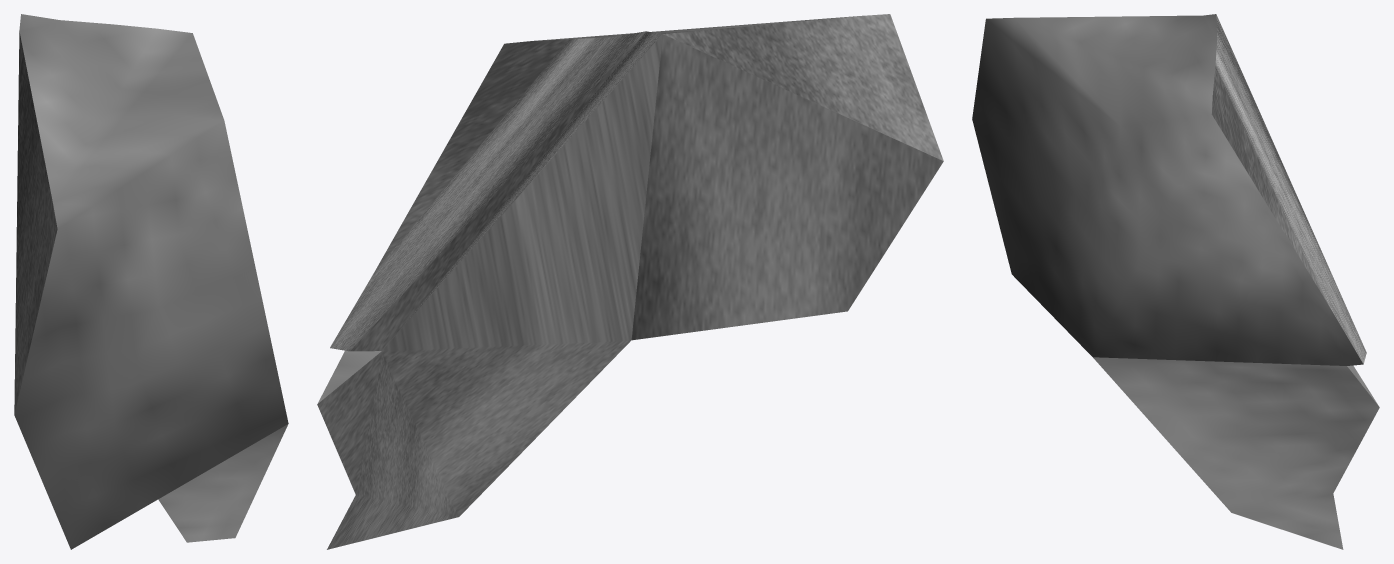
Rendered from body_cell_014.fbx.
3 renders of one model, left to right at view 1: azimuth 30°, elevation 25°; view 2: azimuth 150°, elevation 25°; view 3: azimuth 270°, elevation 25°, orthographic. The views are drawn at different scales.
Parts seen in each view (by area): view 1: body_cell.014; view 2: body_cell.014; view 3: body_cell.014.
Part boxes in pixels (x1=…): body_cell.014: x1=14, y1=14, x2=288, y2=549; body_cell.014: x1=317, y1=14, x2=943, y2=549; body_cell.014: x1=972, y1=14, x2=1379, y2=549.
Bounding box in the file's own units: 12.79 × 16.17 × 13.68.
